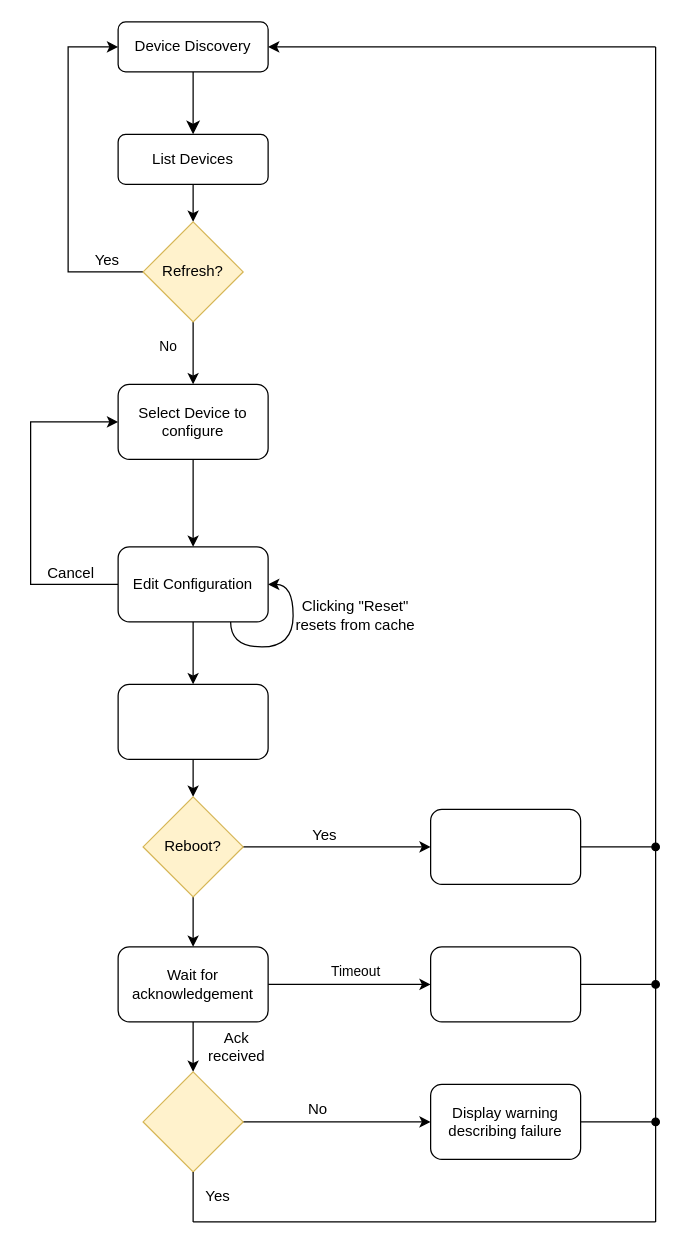
Image size: 688x1245. Some labels were removed from this diagram. The shapes that lost their labels are listed below. From the top down, each one's centre as x and y in pixels, then its label:
At pixel 192 721: "Validate new configuration".
At pixel 505 846: "Display reboot delay warning".
At pixel 505 984: "Display no ack warning".
At pixel 192 1121: "Ack ok?".
